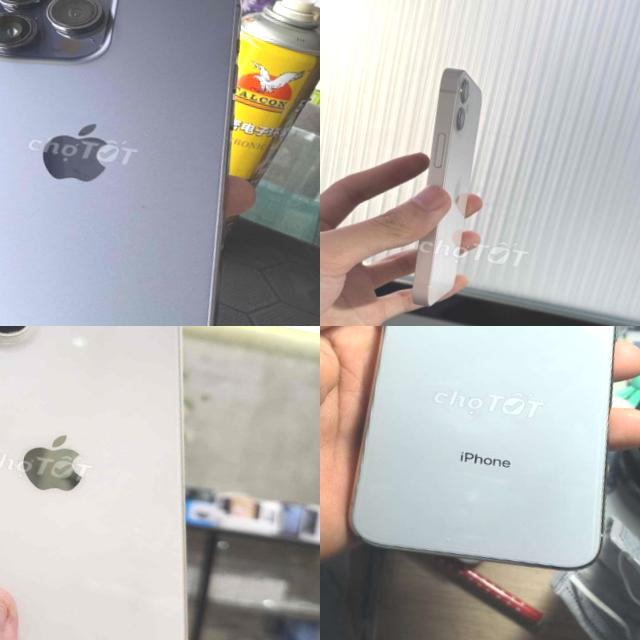gen_12_13: (0, 326, 255, 640), (386, 61, 506, 312)
gen_14: (0, 0, 285, 326)
gen_x_xs: (340, 326, 640, 594)
scratch: (436, 532, 459, 548)
